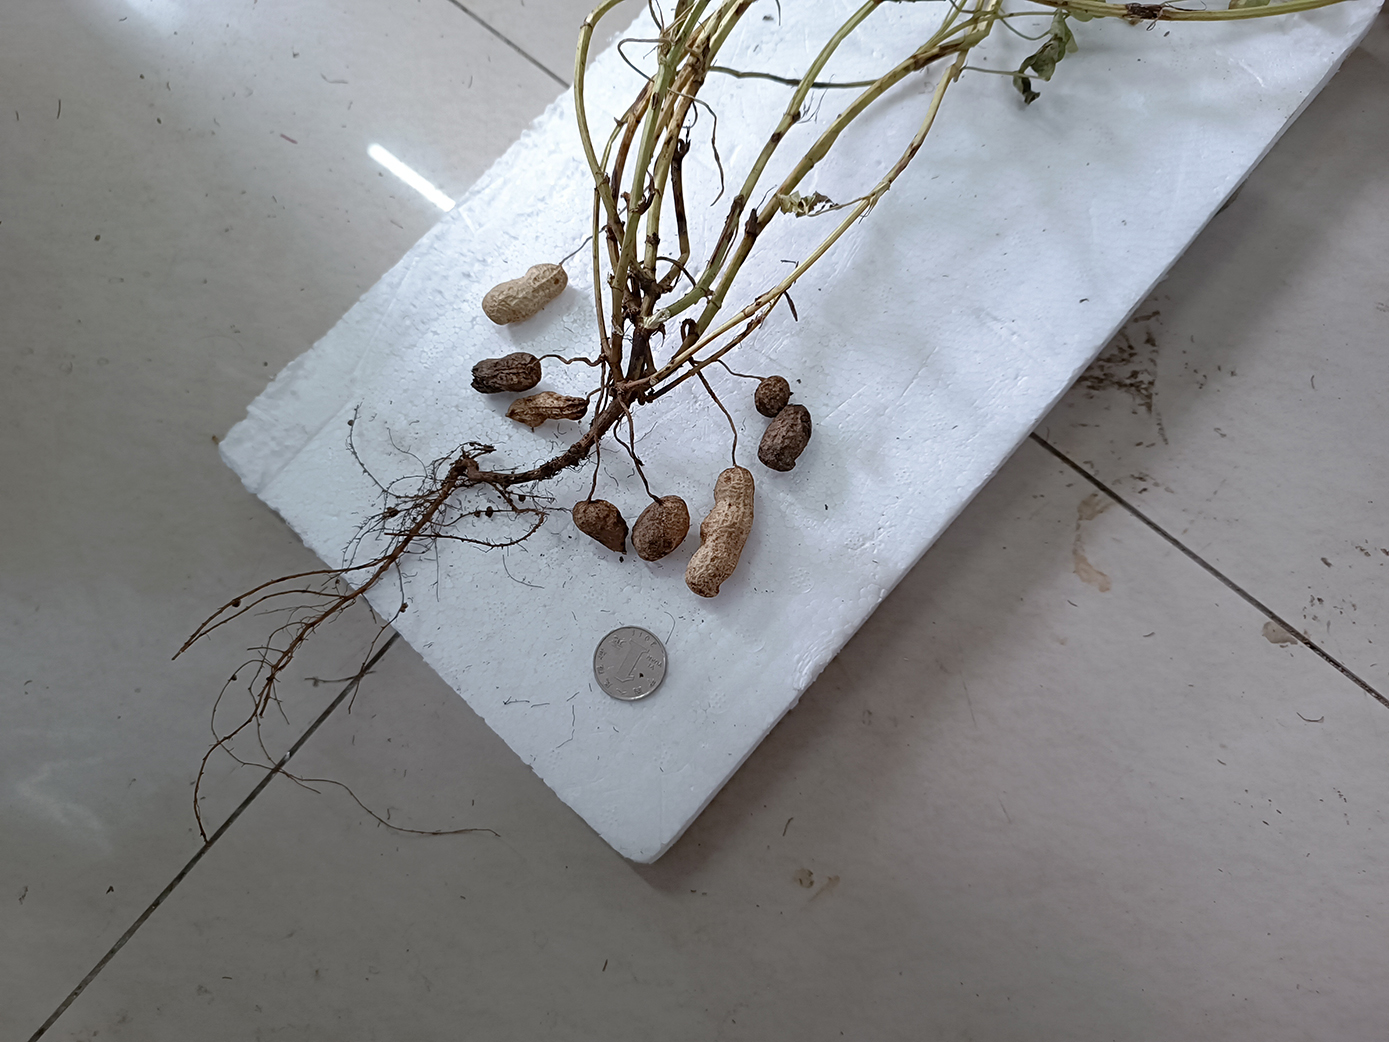h: (684, 467, 755, 599), (484, 262, 567, 326)
l: (630, 494, 688, 561), (756, 405, 812, 473), (572, 498, 629, 555), (468, 351, 544, 392), (508, 393, 586, 425), (754, 374, 790, 414)
